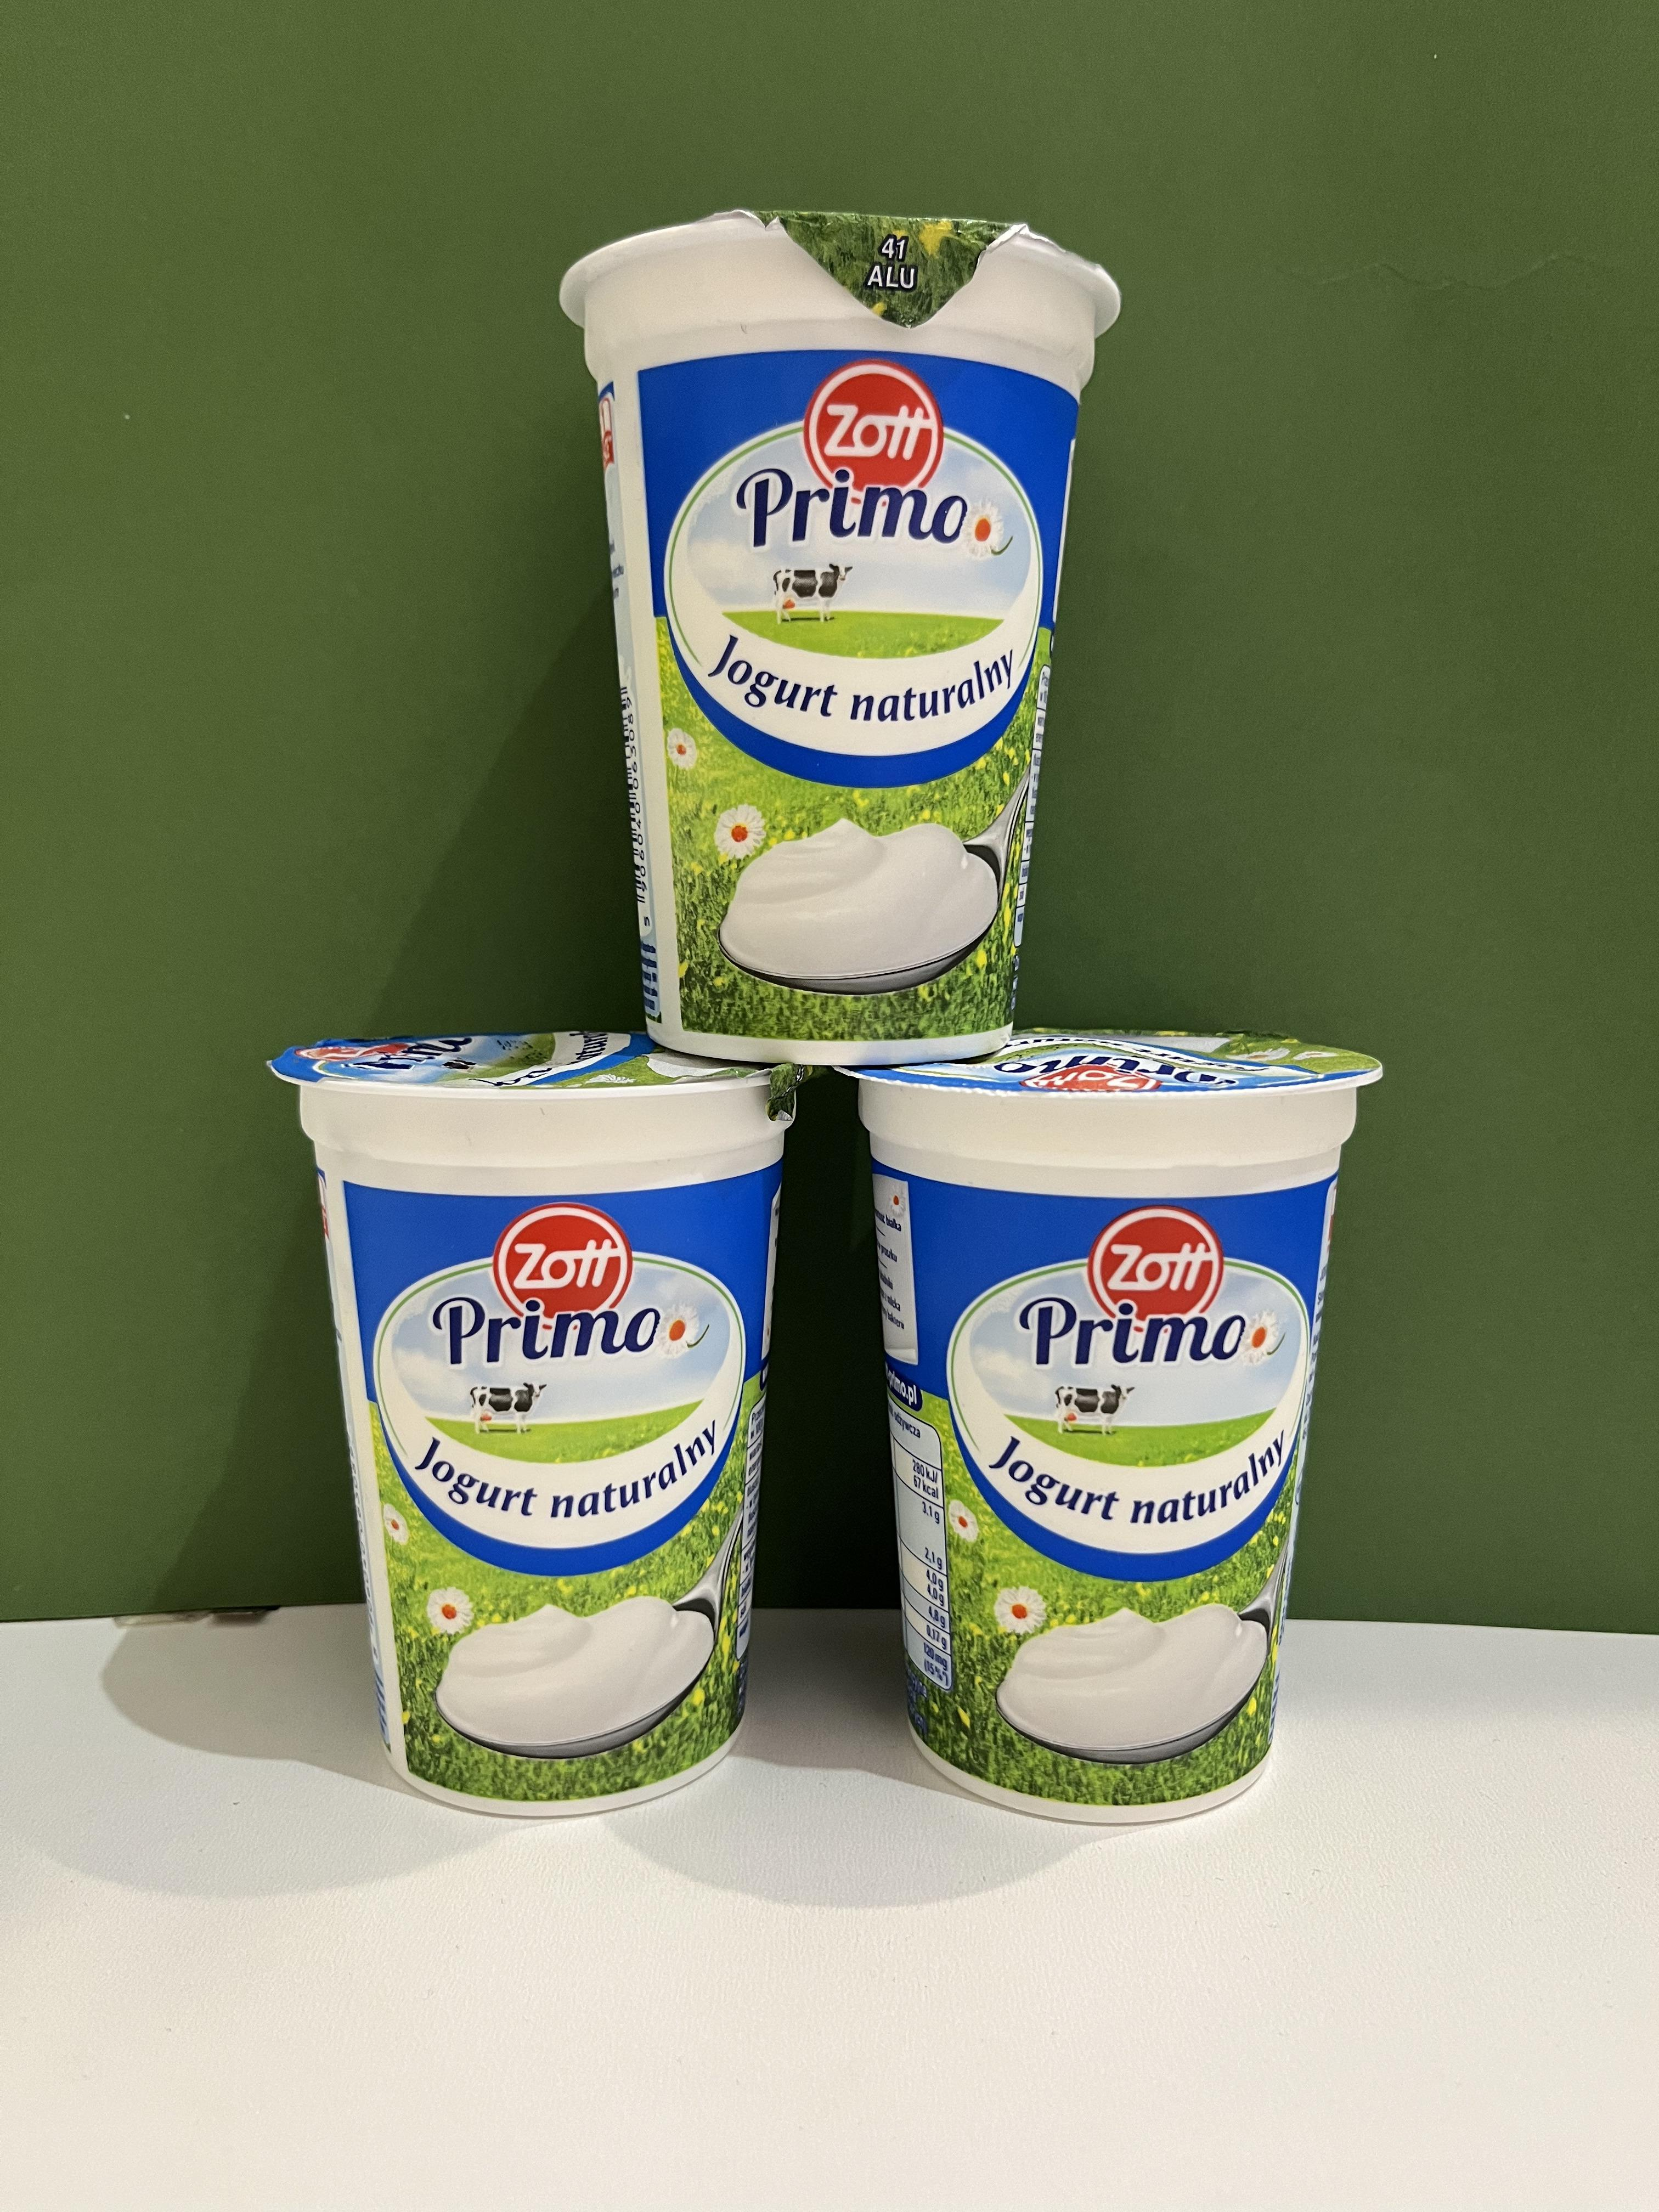Yogurt: (577, 212, 1082, 1069), (857, 1059, 1349, 1820), (322, 1052, 770, 1815)
